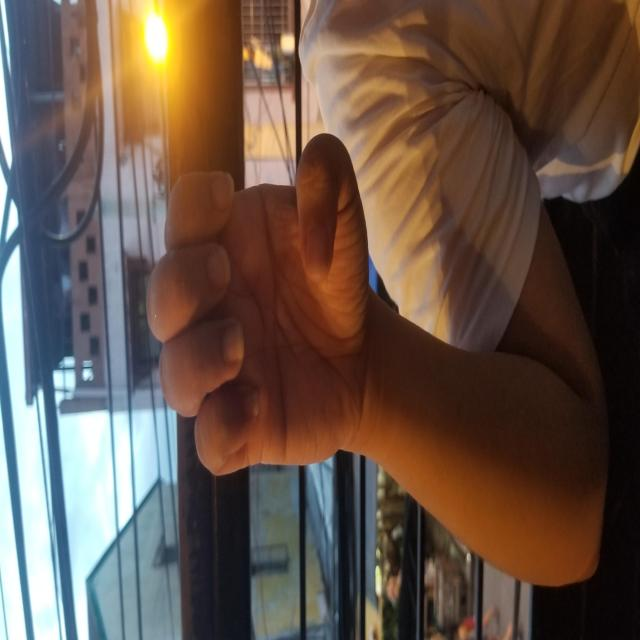E: (159, 144, 513, 370)
